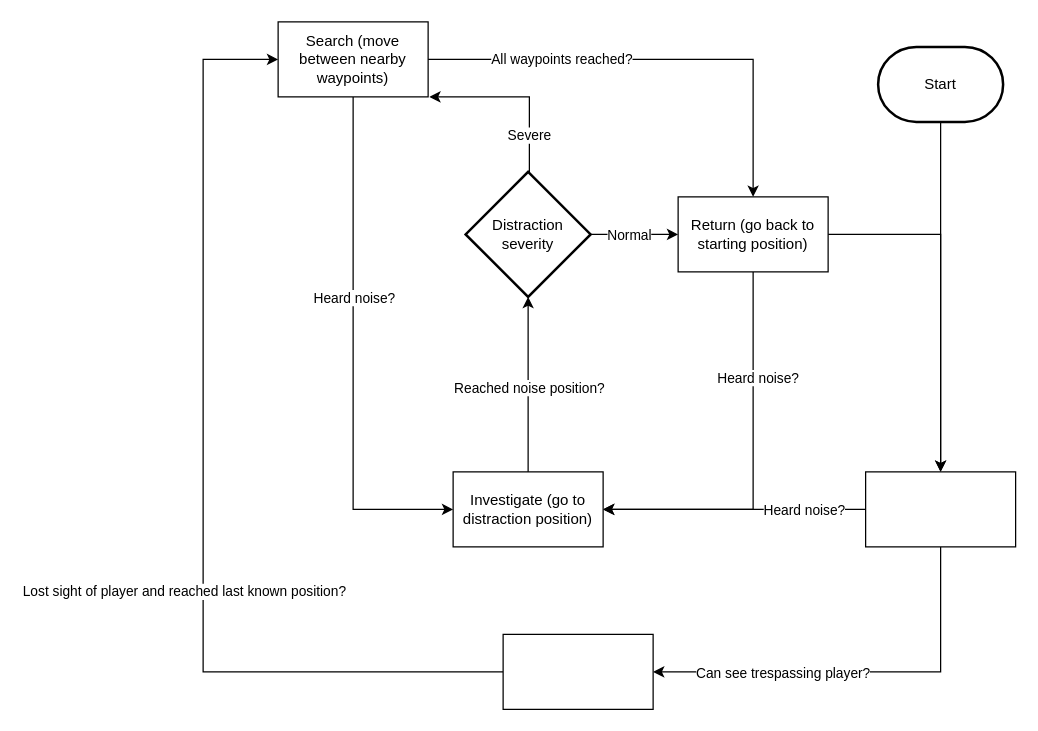
Image size: 1038x731. Some labels were removed from this diagram. Here are the shapes that lost their labels. From the top down, the centre of each, then its label:
At point 940,509: "Default State (idle, rotate or patrol)".
At point 577,671: "Combat (chase player)".
